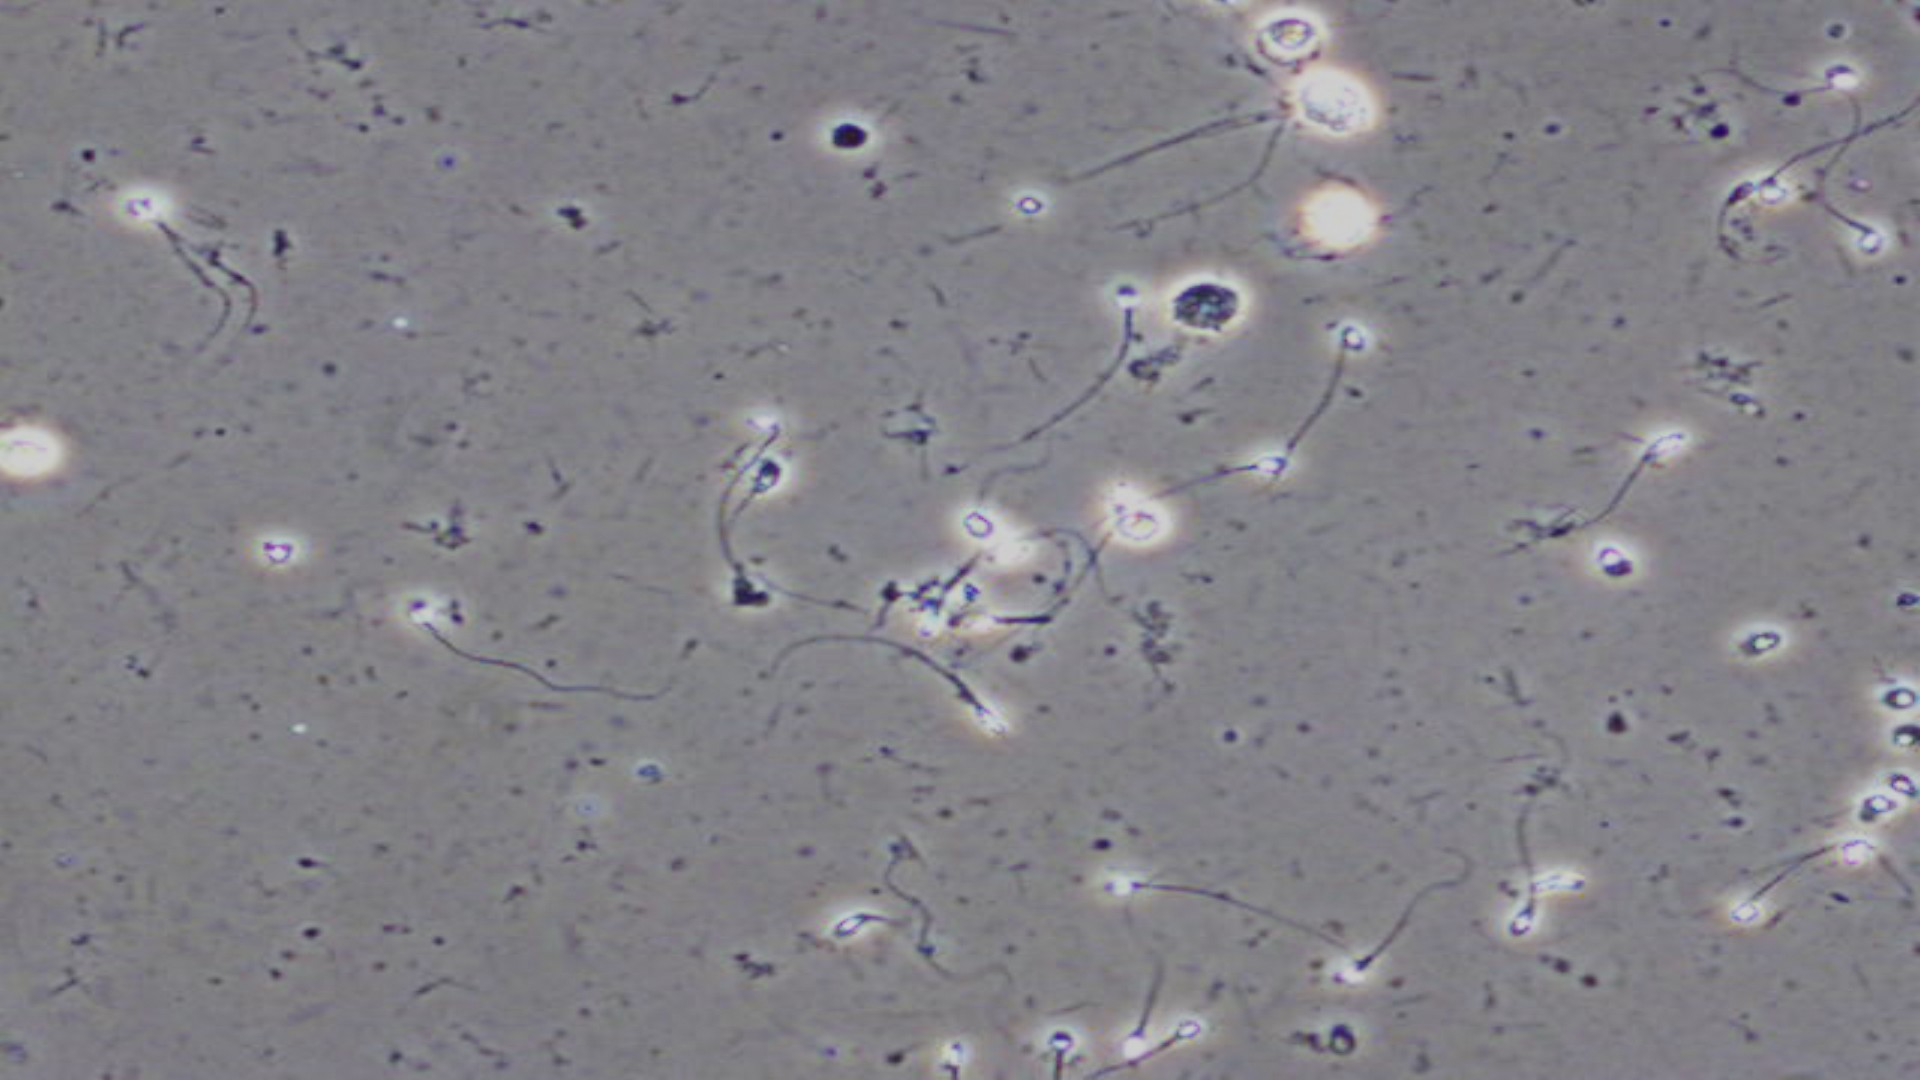sperm: (858, 641, 1025, 741), (109, 193, 245, 309), (396, 593, 538, 695), (1290, 314, 1385, 423), (1063, 282, 1150, 398), (1485, 852, 1563, 961), (1143, 448, 1288, 504), (1320, 916, 1422, 993), (1803, 173, 1888, 258), (1102, 953, 1163, 1069), (1610, 429, 1721, 492), (720, 404, 803, 483), (1093, 857, 1200, 916), (1746, 132, 1811, 228), (832, 902, 928, 963), (1710, 856, 1782, 927), (1153, 1013, 1217, 1071), (939, 1021, 985, 1080)
